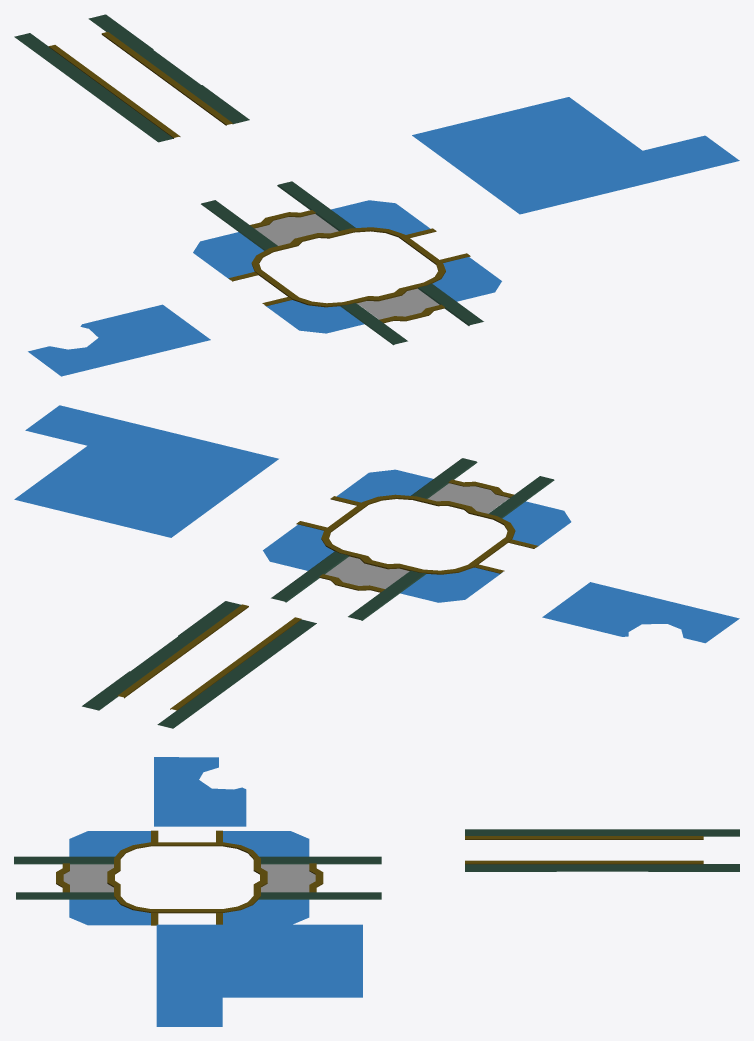
File: grass_lobby_001.FBX
3 renders of one model, top to bottom at view 1: azimuth 30°, elevation 25°; view 2: azimuth 150°, elevation 25°; view 3: azimuth 270°, elevation 25°, orthographic. The views are drawn at different scales.
Visible parts, largest first — view 1: grass_lobby_001; view 2: grass_lobby_001; view 3: grass_lobby_001.
Part boxes in pixels (bbox=[...]): grass_lobby_001: bbox=[14, 14, 739, 376]; grass_lobby_001: bbox=[14, 405, 739, 728]; grass_lobby_001: bbox=[14, 757, 739, 1026].
Bounding box in the file's own units: 2588 × 2511 × 189.
